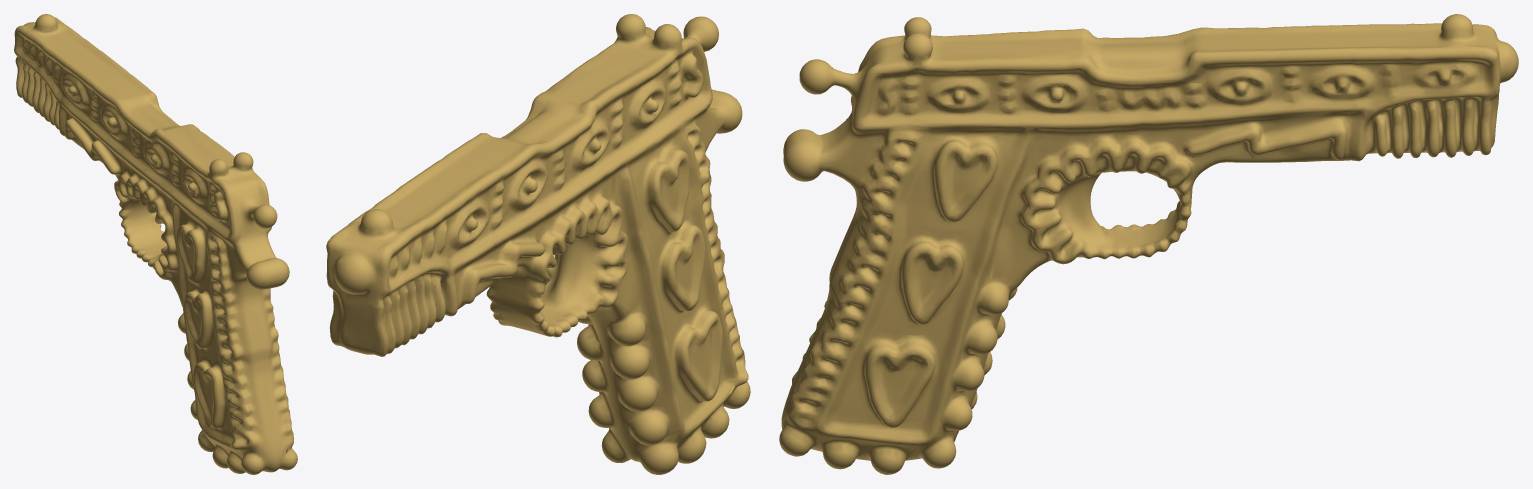
The model's file is quete.glb.
3 views of the same model, side by side, from view 1: azimuth 30°, elevation 25°; view 2: azimuth 150°, elevation 25°; view 3: azimuth 270°, elevation 25° (orthographic). The views are drawn at different scales.
Parts seen in each view (by area): view 1: quete; view 2: quete; view 3: quete.
Part boxes in pixels (x1=…): quete: x1=14, y1=14, x2=297, y2=474; quete: x1=326, y1=14, x2=750, y2=474; quete: x1=779, y1=14, x2=1518, y2=474.
Size of the model in its own units: 0.7215 by 3.19 by 4.75.
